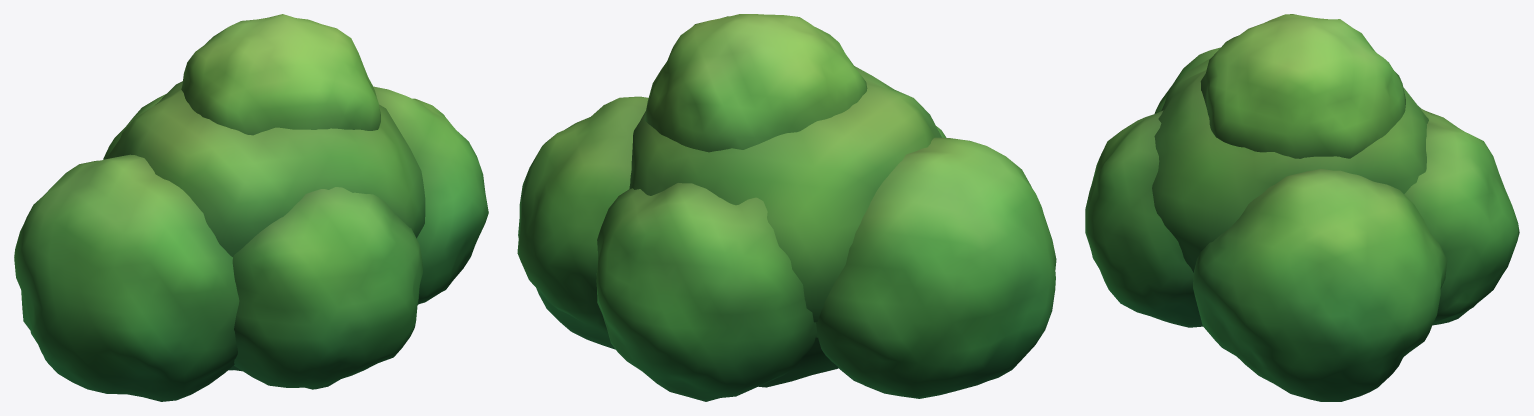
Rendered from bush_a.glb.
3 views of the same model, side by side, from view 1: azimuth 30°, elevation 25°; view 2: azimuth 150°, elevation 25°; view 3: azimuth 270°, elevation 25° (orthographic). The views are drawn at different scales.
Visible parts, largest first — view 1: bush_a; view 2: bush_a; view 3: bush_a.
Boxes of the visible parts, bbox=[...] form: bush_a: bbox=[14, 14, 488, 401]; bush_a: bbox=[517, 14, 1056, 401]; bush_a: bbox=[1085, 14, 1519, 401].
Bounding box in the file's own units: 1.64 × 1.1 × 1.35.
